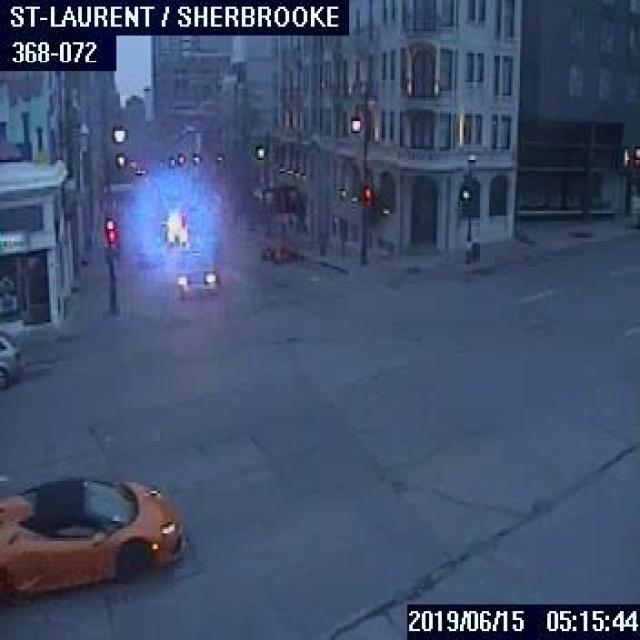vehicle: (0, 473, 185, 599), (172, 251, 218, 297), (0, 329, 25, 387)
